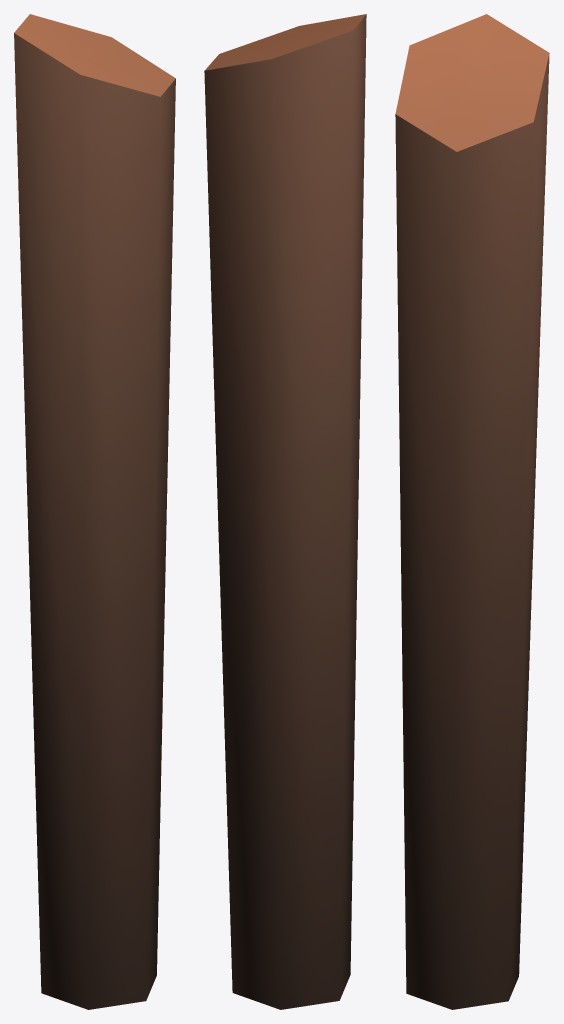
The model's file is Fence_1C_Part_2.fbx.
3 views of the same model, side by side, from view 1: azimuth 30°, elevation 25°; view 2: azimuth 150°, elevation 25°; view 3: azimuth 270°, elevation 25° (orthographic). The views are drawn at different scales.
Visible parts, largest first — view 1: Fence_1C_Part_2; view 2: Fence_1C_Part_2; view 3: Fence_1C_Part_2.
Part boxes in pixels (x1,y1,x2,y2): Fence_1C_Part_2: (14,14,175,1009); Fence_1C_Part_2: (204,14,366,1009); Fence_1C_Part_2: (395,14,549,1009).
Bounding box in the file's own units: 19.38 × 121 × 18.08.
